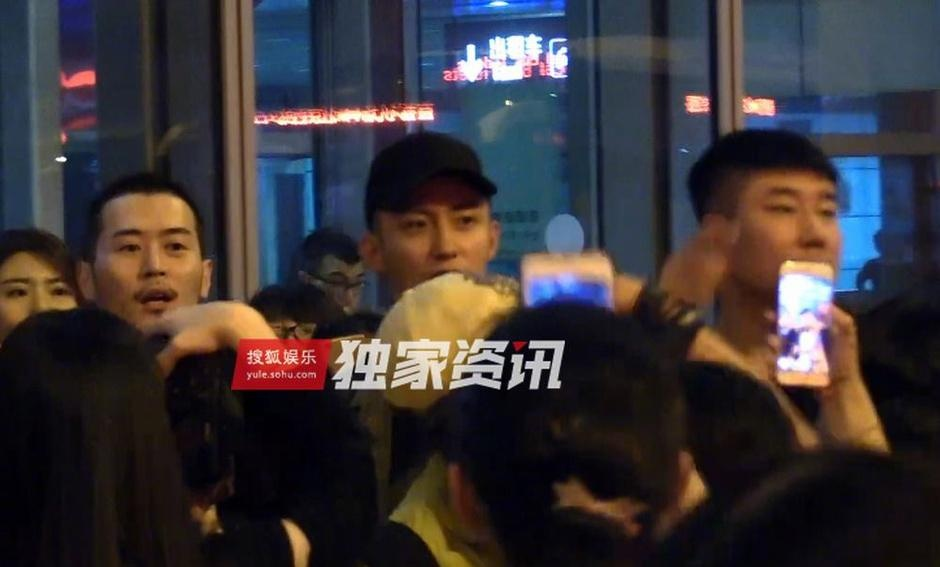Mask: (376, 197, 499, 318)
